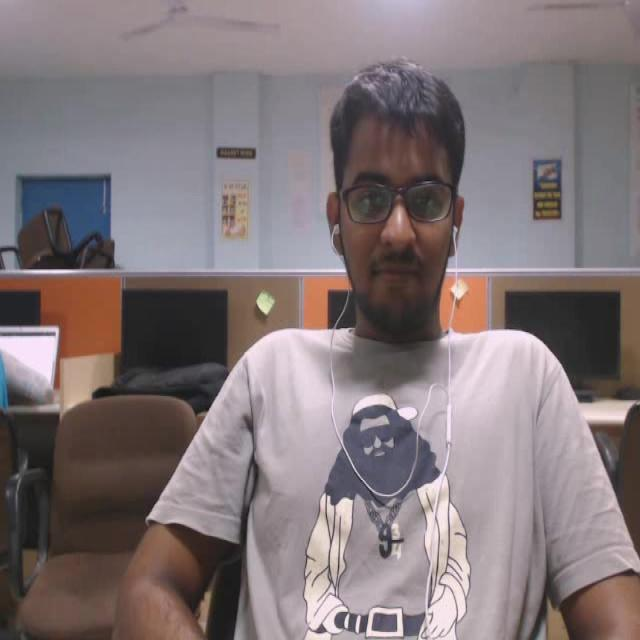Engaged: (294, 37, 490, 359)
